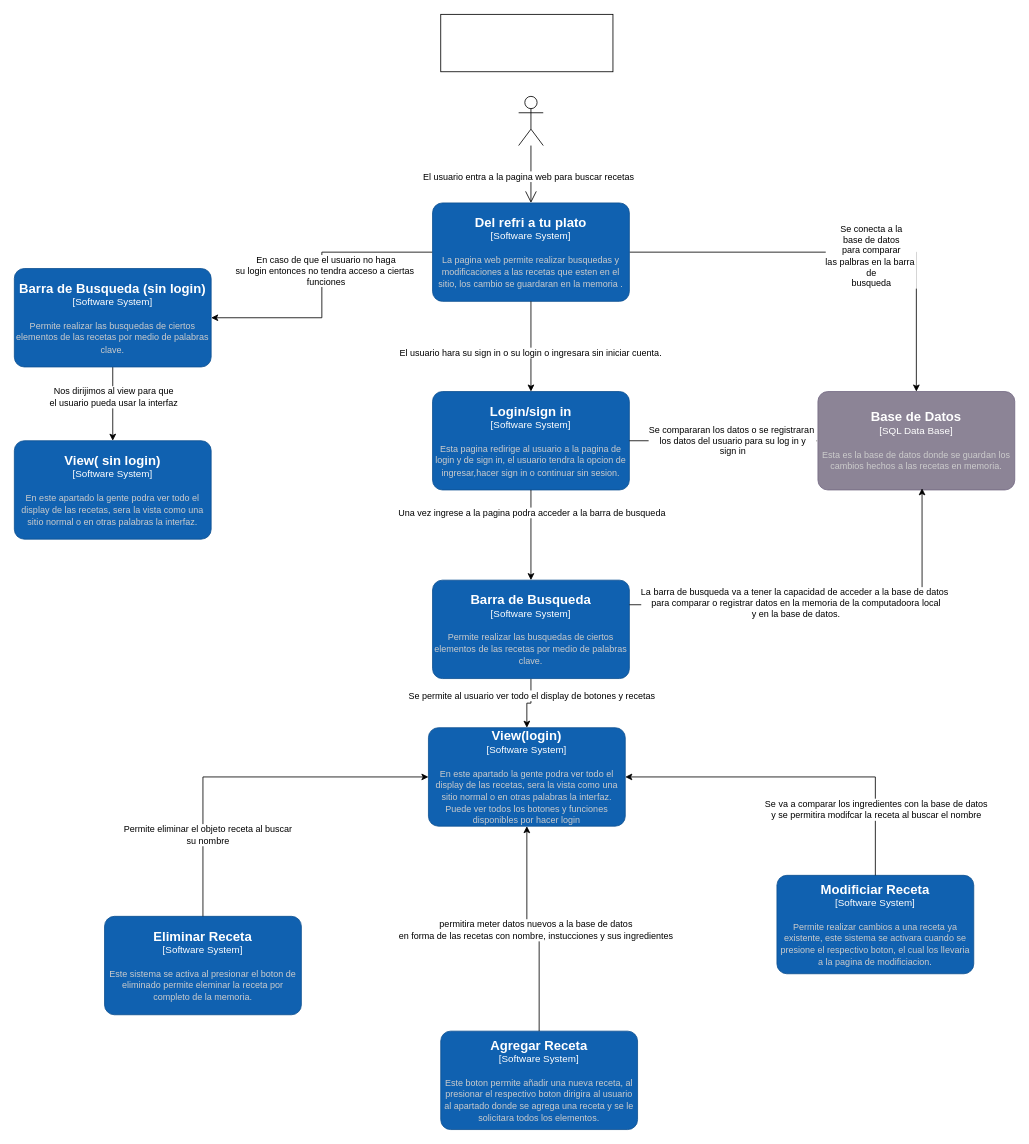
The diagram is 1029 pixels wide and 1144 high, and some of its shapes have lost their labels. Here are the shapes that lost their labels. From the top down, the box of each, then its label:
(440, 14, 613, 72): Diagrama Contexto: Barra de Busqueda
(518, 96, 543, 146): Actor
